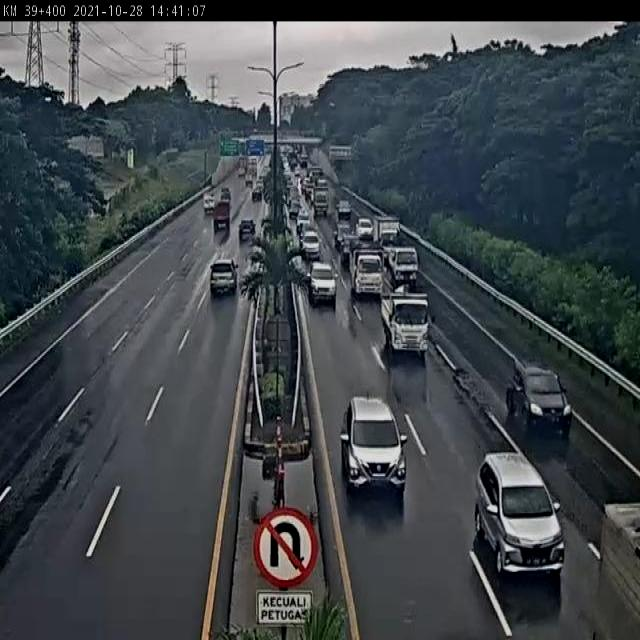Car: (477, 446, 564, 576), (344, 394, 406, 499), (508, 353, 569, 434), (206, 258, 242, 302), (304, 262, 336, 300), (298, 232, 322, 260), (238, 218, 260, 239), (355, 218, 374, 242), (250, 187, 264, 203)
Truck: (582, 497, 639, 640), (374, 284, 439, 358), (346, 245, 386, 300), (386, 242, 426, 284), (376, 215, 404, 244), (310, 182, 328, 217), (212, 203, 234, 228), (334, 198, 354, 220), (199, 192, 216, 216), (245, 157, 258, 178)
